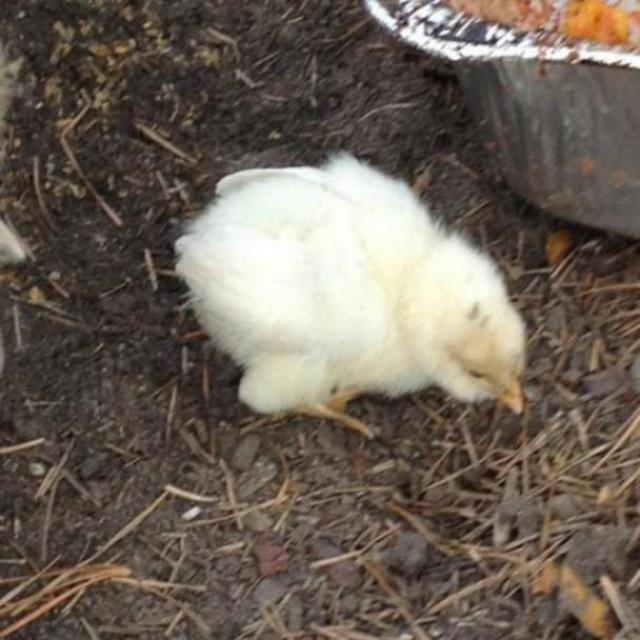Chicken: (176, 135, 533, 473)
